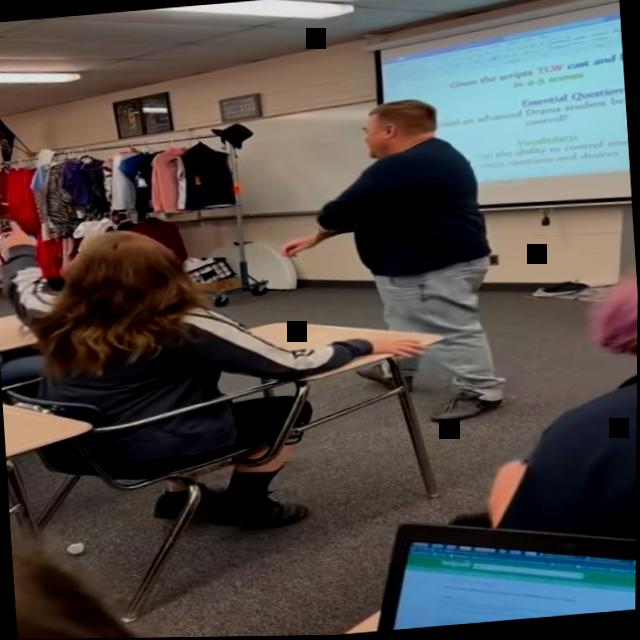NO-Mask: (362, 114, 387, 160)
